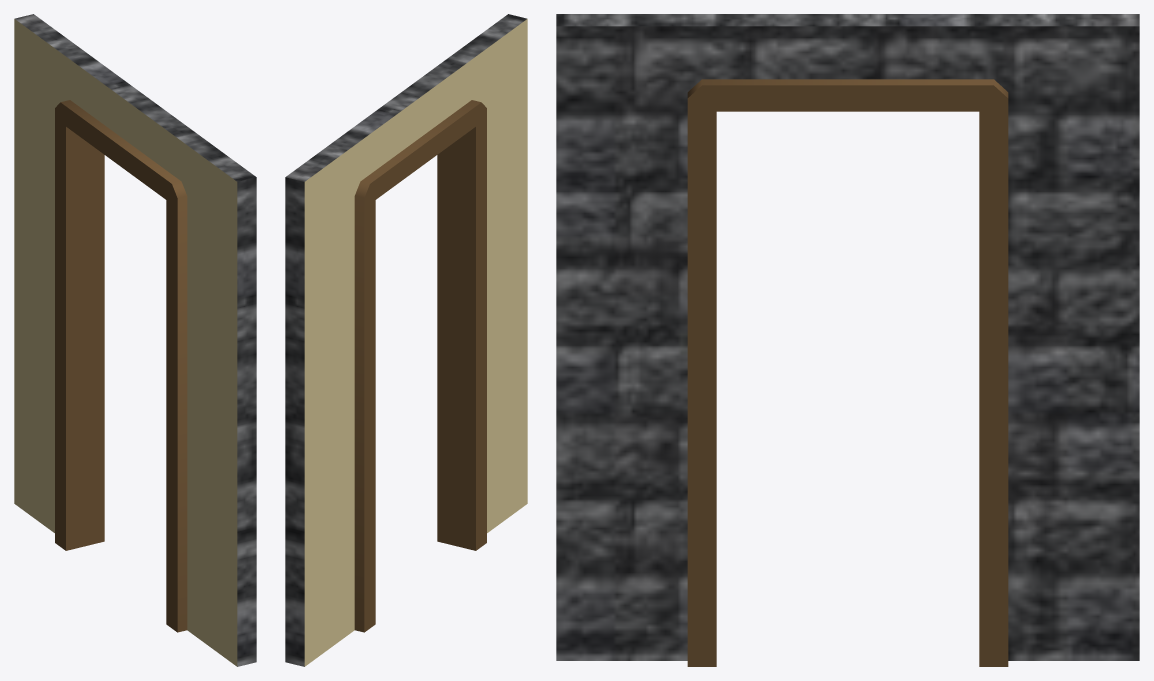
Rendered from kit_Wall Doorway Square.glb.
The picture shows the model from 3 angles, left to right: view 1: azimuth 30°, elevation 25°; view 2: azimuth 150°, elevation 25°; view 3: azimuth 270°, elevation 25°; orthographic projection. The views are drawn at different scales.
Visible parts, largest first — view 1: wall-doorway-square; view 2: wall-doorway-square; view 3: wall-doorway-square.
Boxes of the visible parts, x1,y1,x2,y2 form: wall-doorway-square: (14,14,256,666); wall-doorway-square: (285,14,527,666); wall-doorway-square: (556,14,1139,666).
Bounding box in the file's own units: 0.2 × 2.4 × 2.
3 materials, 1 textured.
